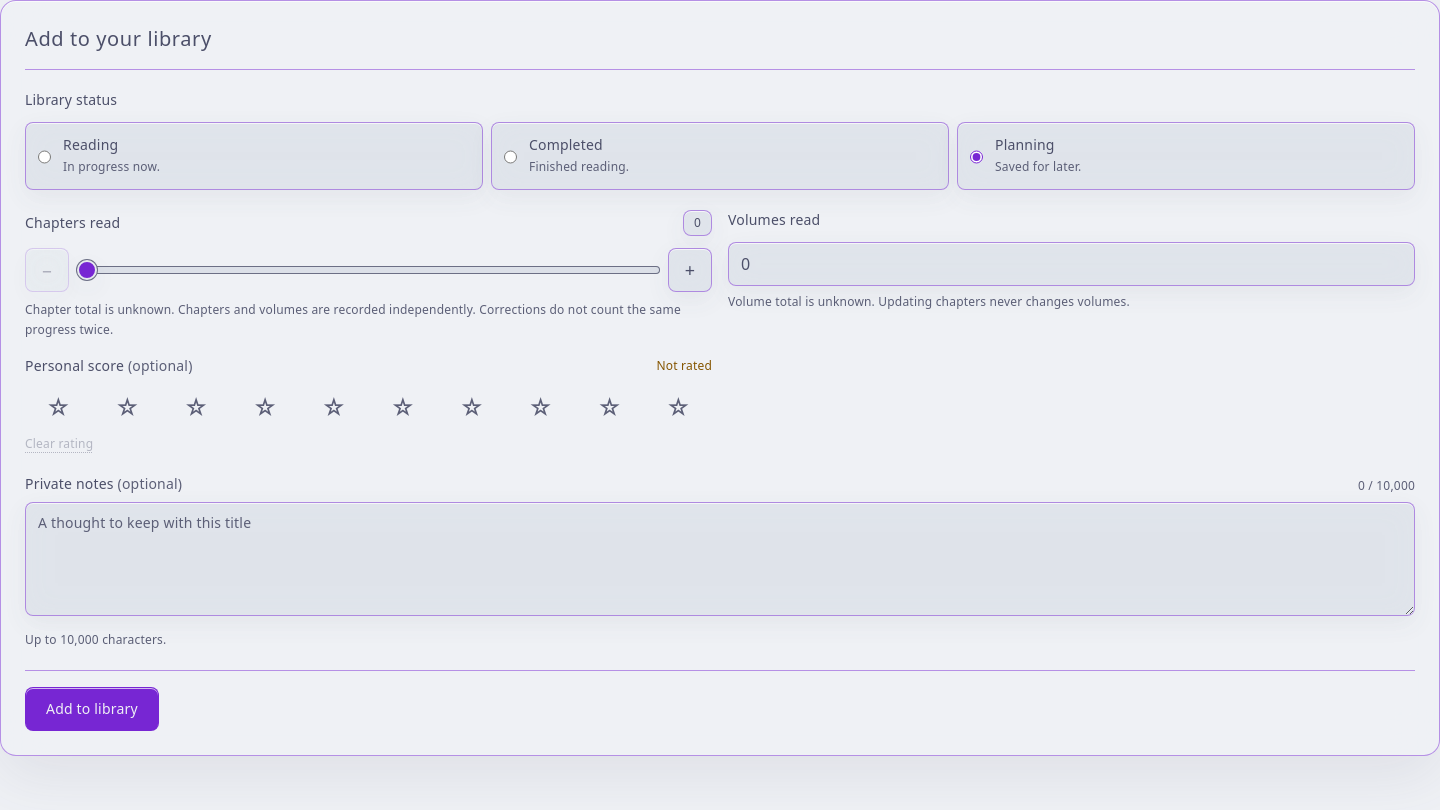
Test: Manga progress › allows unknown totals without inferring volume progress and rejects empty volumes
expect the text "Chapter total is unknown" is shown: met, box left=25, top=301, right=681, bottom=338
expect the text "Volume total is unknown" is shown: met, box left=728, top=293, right=1130, bottom=310
Click the button named "Increase chapters read" at (690, 270), box left=668, top=248, right=712, bottom=292
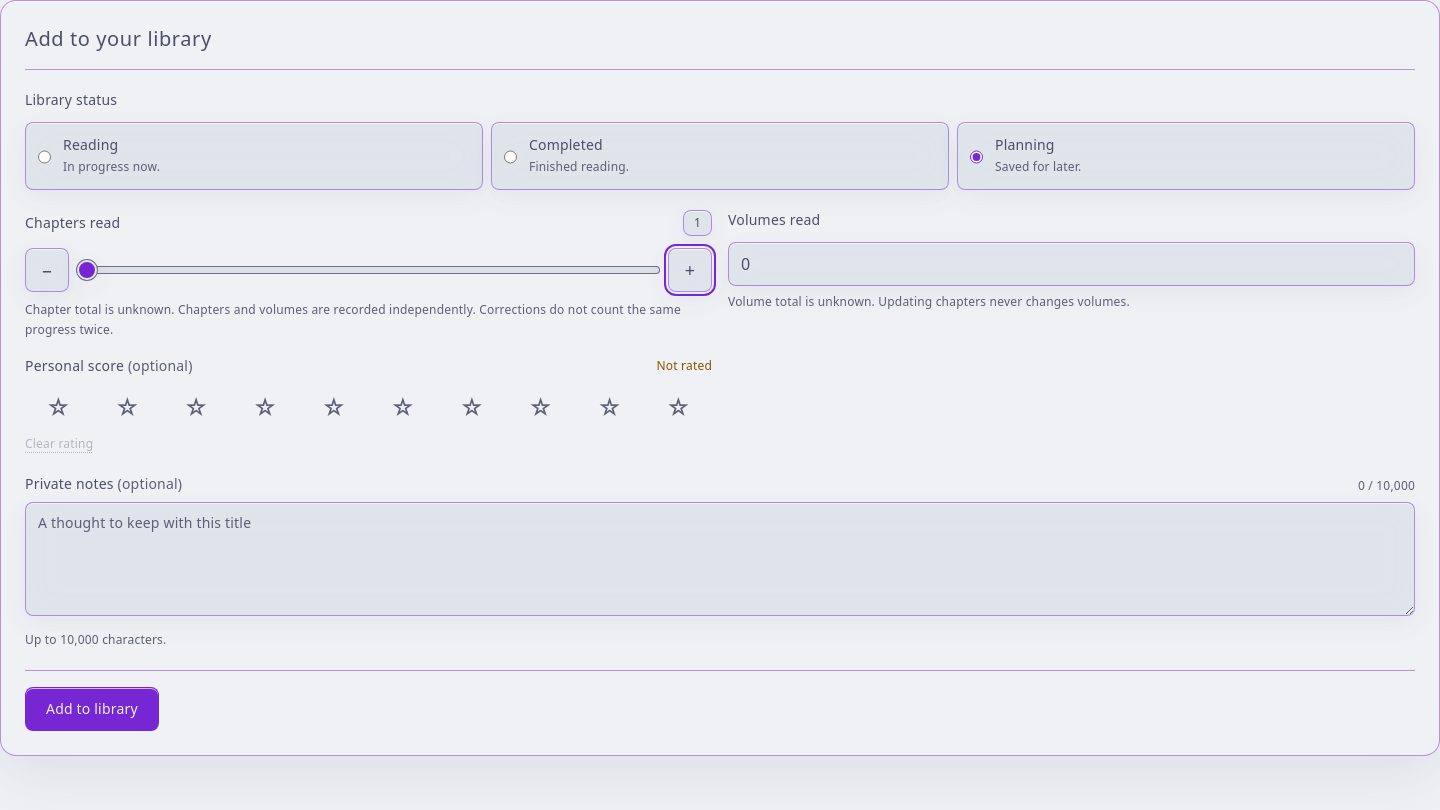
Clear the number field labelled "Volumes read" at (1072, 264), box left=728, top=242, right=1415, bottom=286
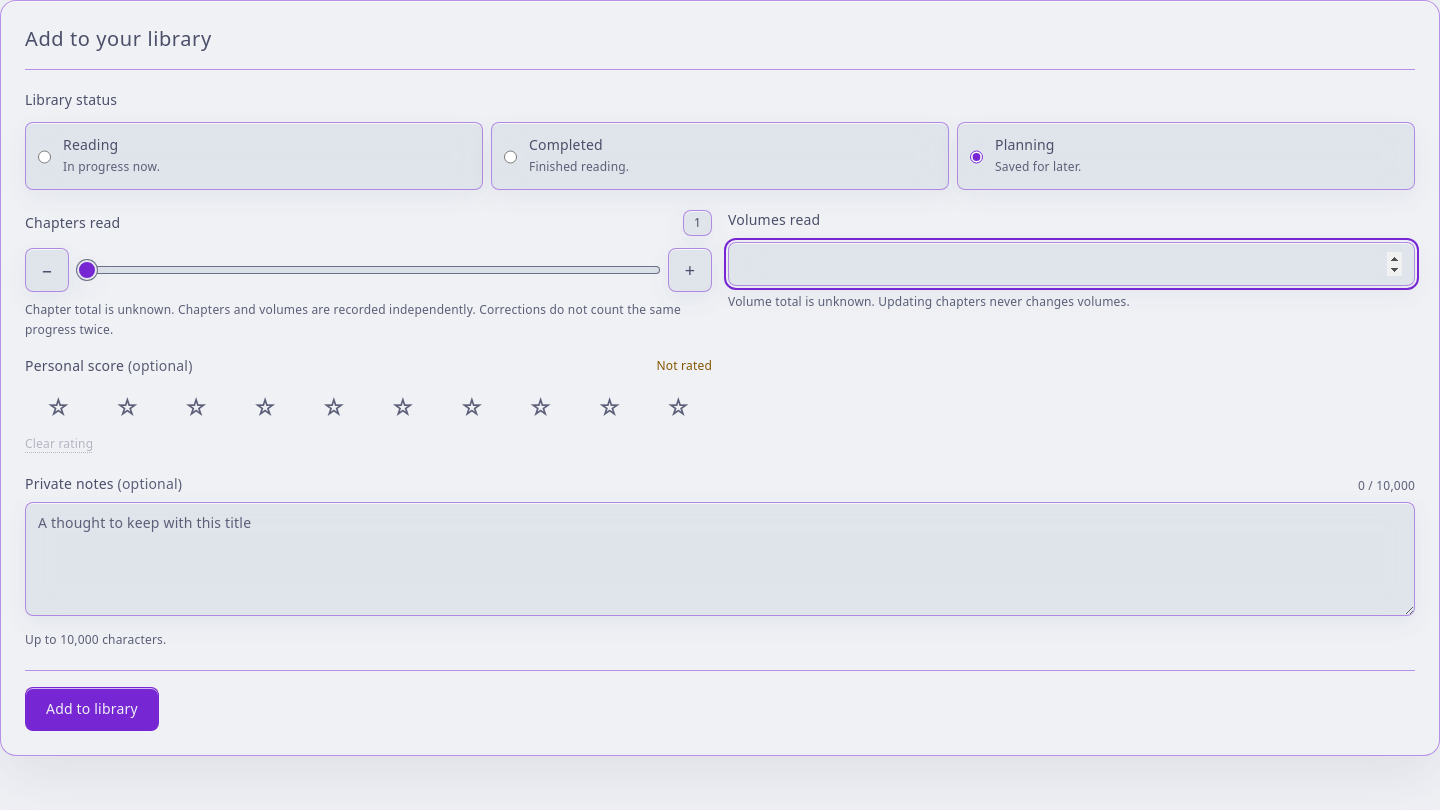
Click the button "Add to library" at (92, 709), box left=25, top=687, right=159, bottom=731
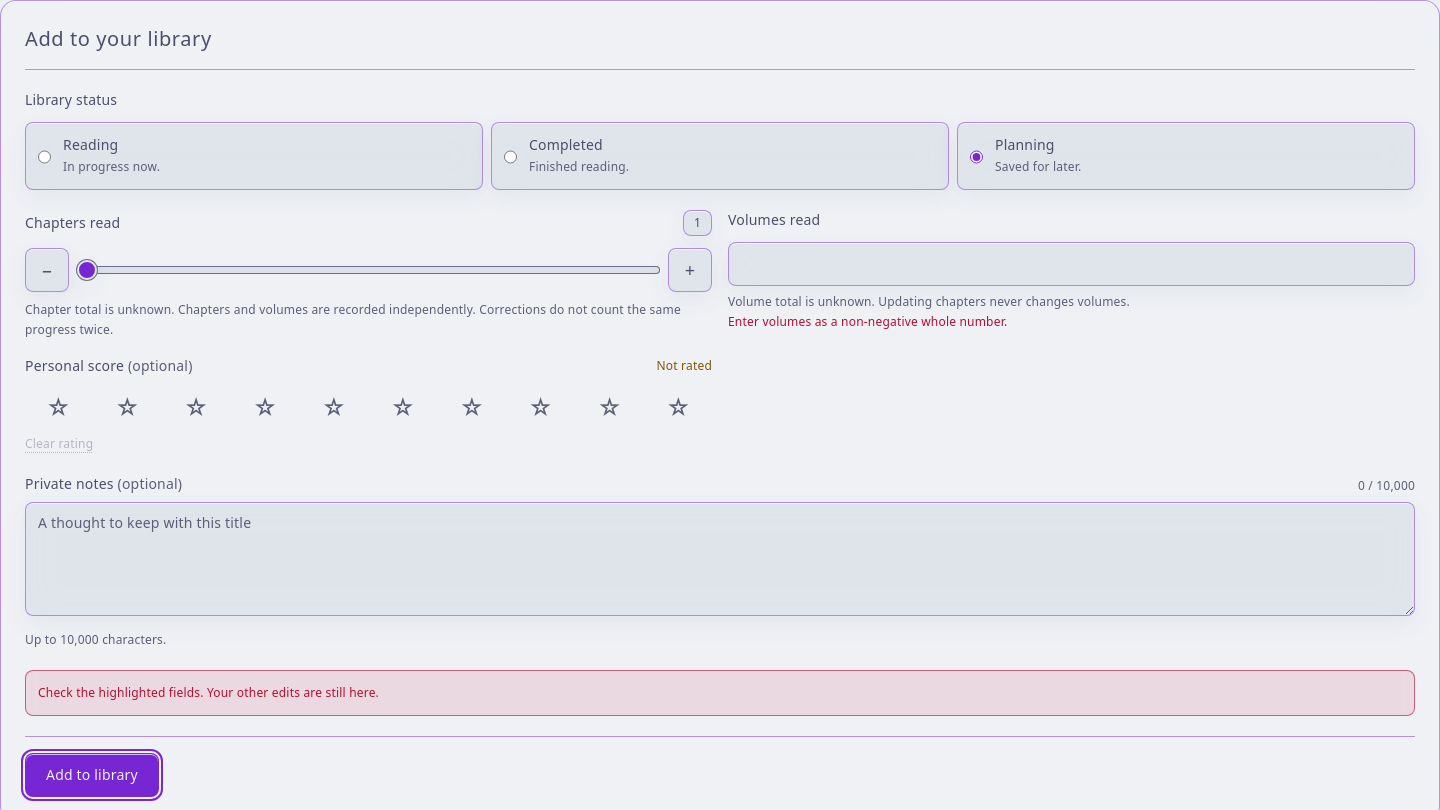
expect the text "Enter volumes as a non-negative whole number." is shown: met, box left=728, top=313, right=1007, bottom=330
